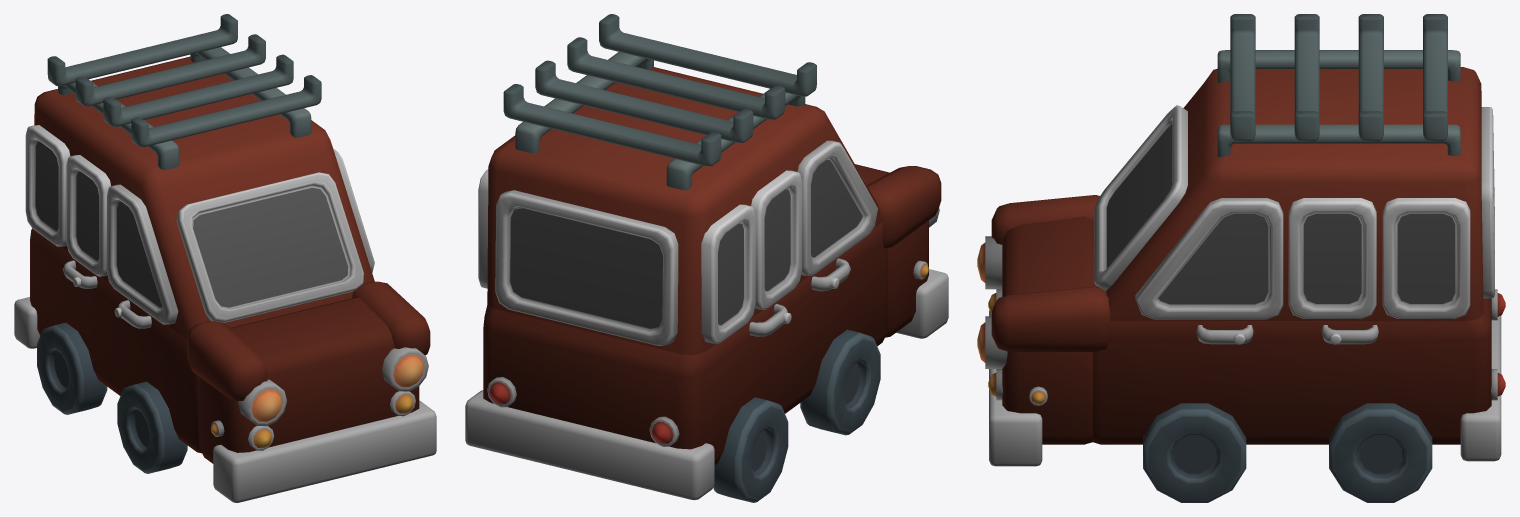
Rendered from mct_car_15.fbx.
3 renders of one model, left to right at view 1: azimuth 30°, elevation 25°; view 2: azimuth 150°, elevation 25°; view 3: azimuth 270°, elevation 25°, orthographic. The views are drawn at different scales.
Visible parts, largest first — view 1: mct_car_15, mct_car_15_w; view 2: mct_car_15, mct_car_15_w; view 3: mct_car_15, mct_car_15_w.
Part boxes in pixels (x1,y1,x2,y2): mct_car_15: (14,14,436,502); mct_car_15_w: (37,322,187,473); mct_car_15: (465,14,948,500); mct_car_15_w: (713,329,880,502); mct_car_15: (977,14,1505,466); mct_car_15_w: (1143,403,1432,502).
Size of the model in its own units: 130 by 183 by 231.
